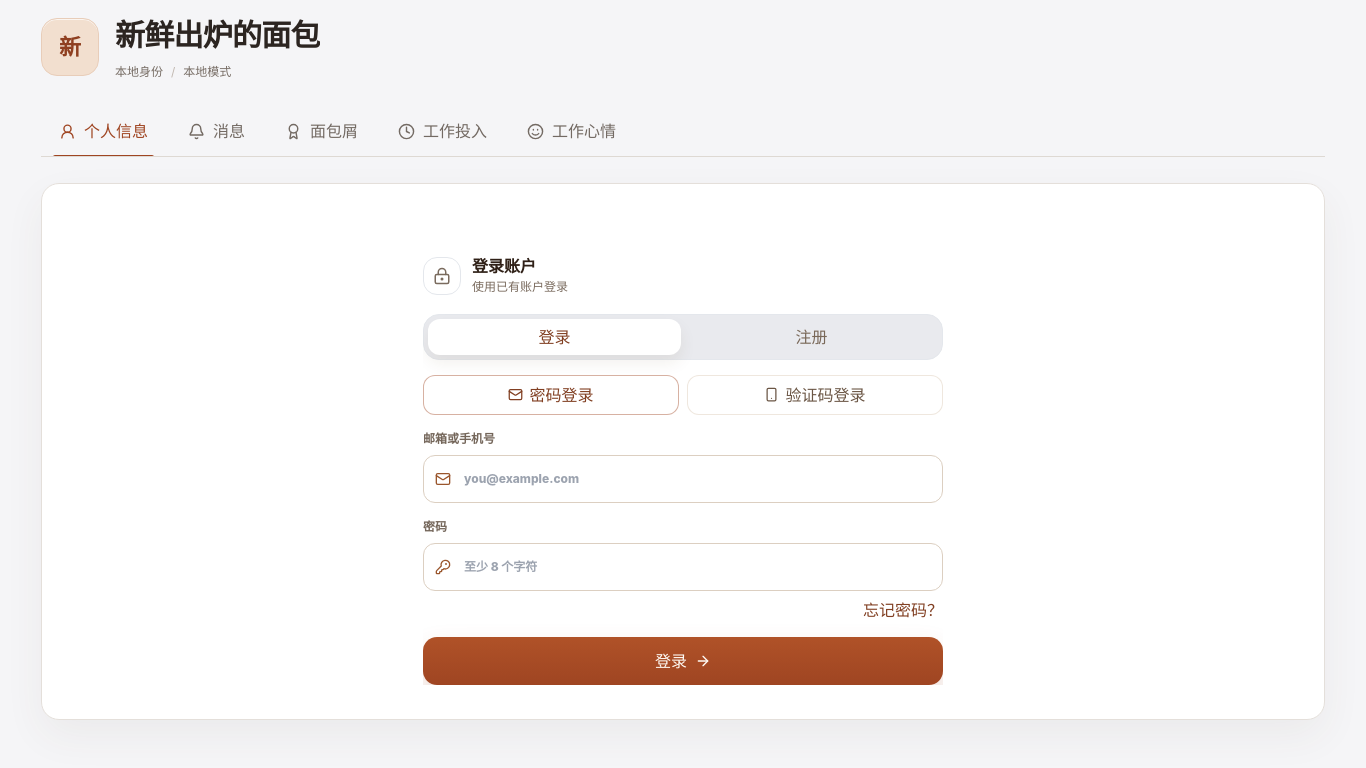
AuthPanel › 账户服务未就绪时提示稍后重试
(page scrolled)
Type "admin@memorybread.local" into the field with placeholder "you@example.com" at x=683, y=479, box [423,455,943,503]
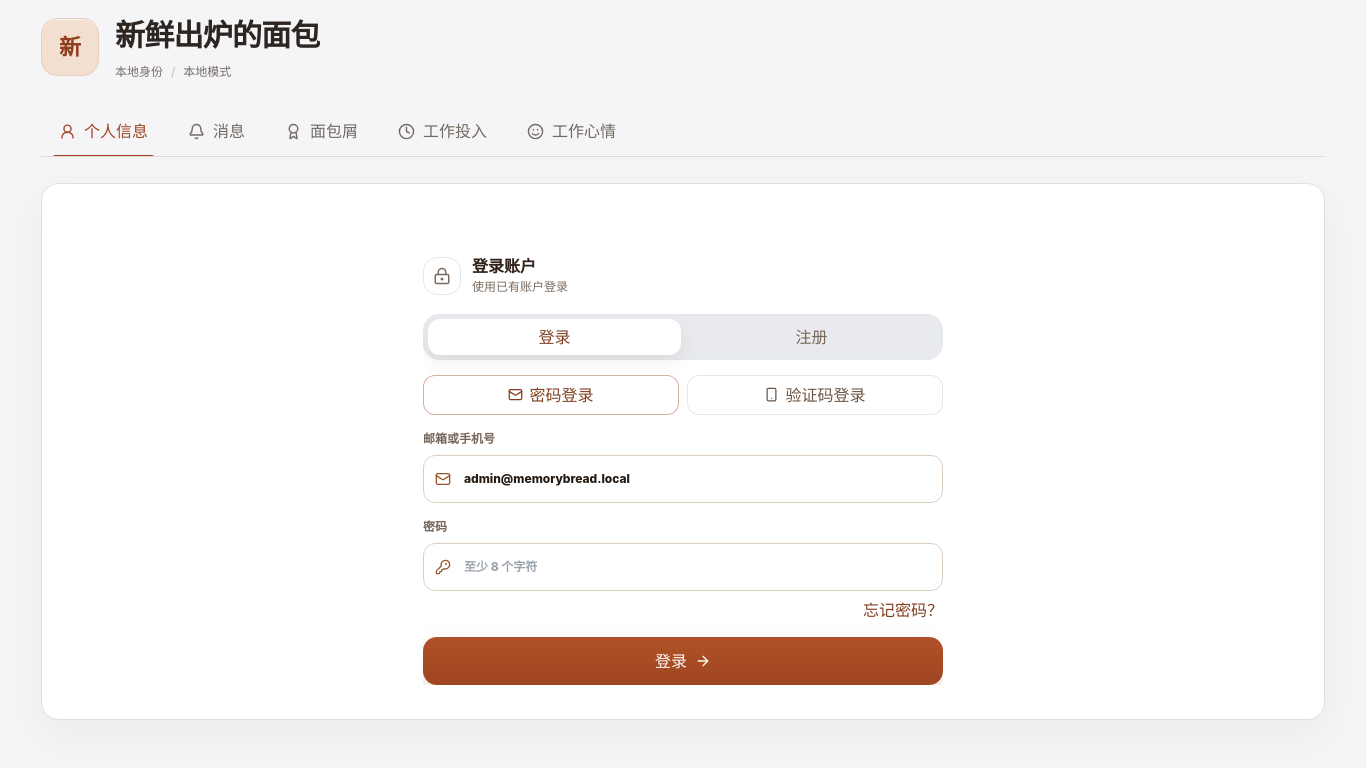
Type "MemoryBread@2026!" into the password field with placeholder "至少 8 个字符" at x=683, y=567, box [423,543,943,591]
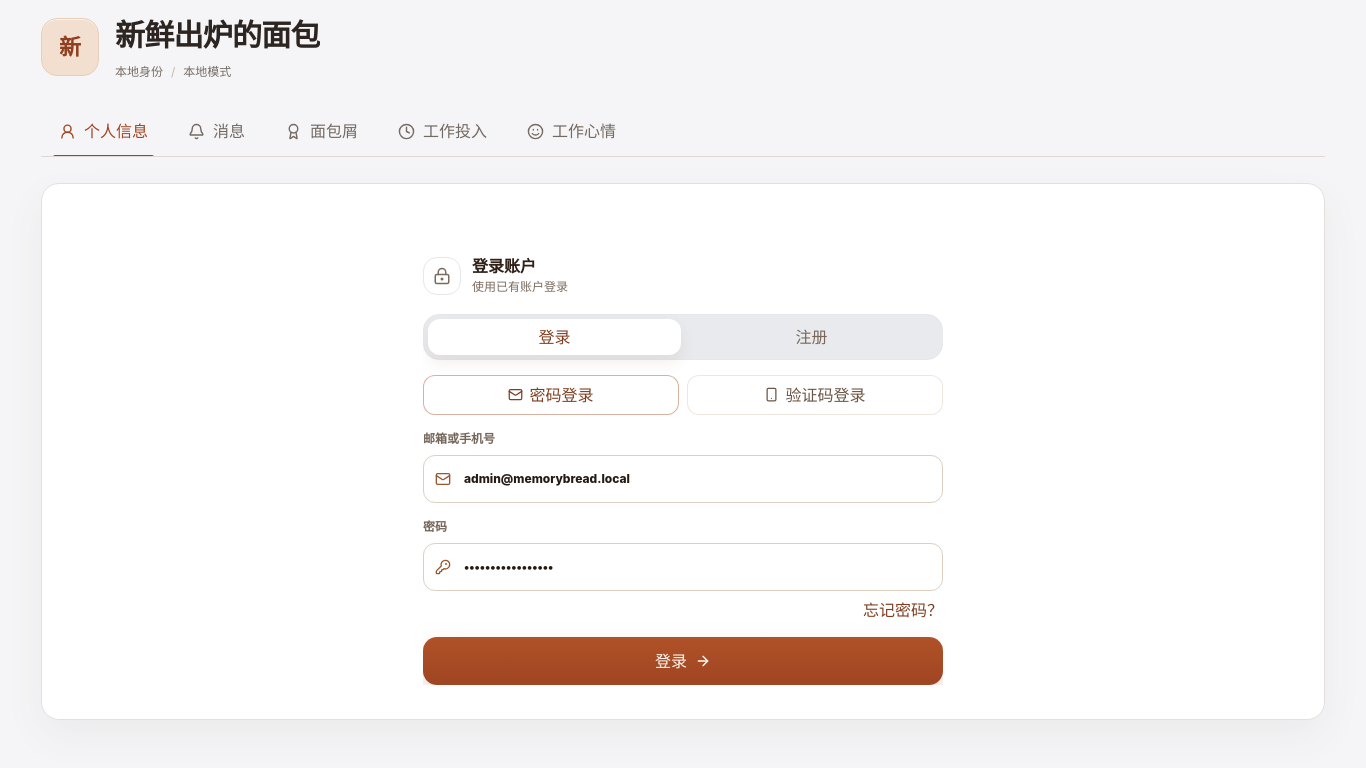
Click the button "登录" at x=683, y=661, box [423,637,943,685]
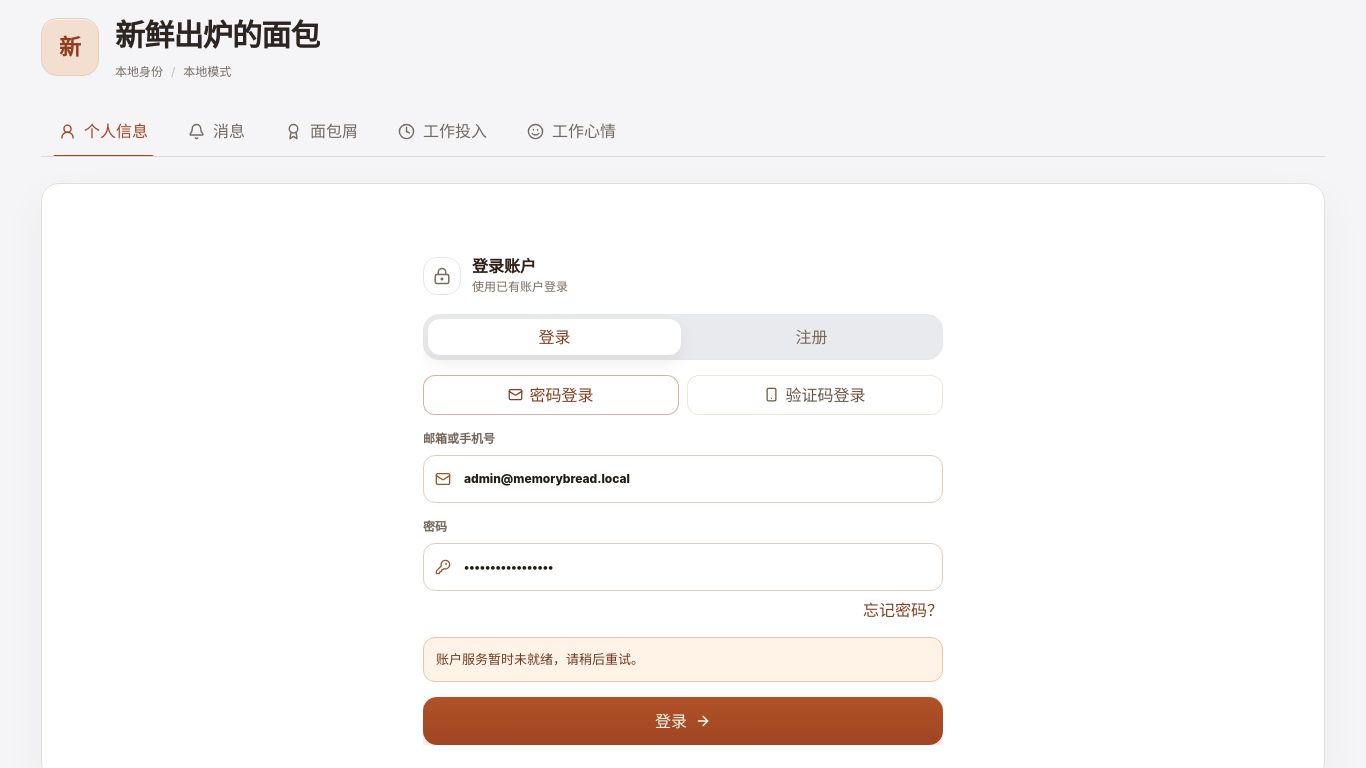
Check: the message shows "账户服务暂时未就绪", box [436,651,644,667]
